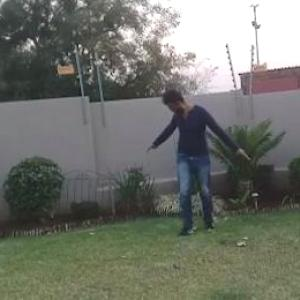land: (122, 74, 244, 249)
